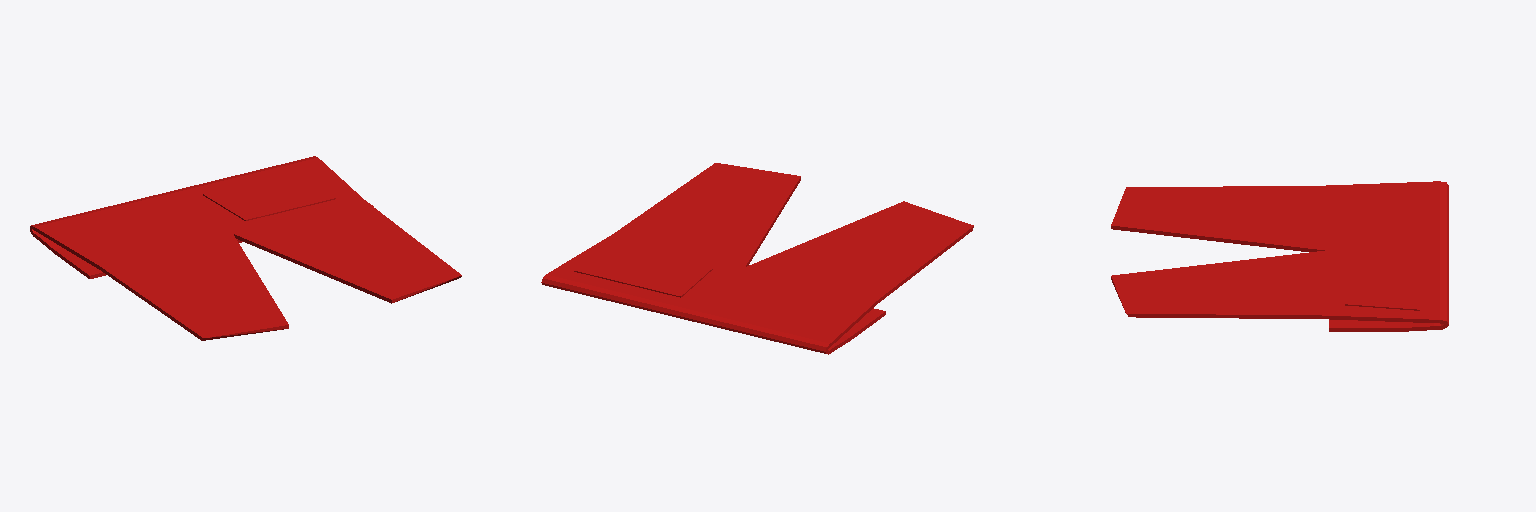
The model's file is trousers.obj.
The picture shows the model from 3 angles: view 1: azimuth 30°, elevation 25°; view 2: azimuth 150°, elevation 25°; view 3: azimuth 270°, elevation 25°; orthographic projection.
Parts seen in each view (by area): view 1: trousers; view 2: trousers; view 3: trousers.
Boxes of the visible parts, x1=… form: trousers: x1=30, y1=156, x2=461, y2=340; trousers: x1=541, y1=163, x2=973, y2=354; trousers: x1=1111, y1=181, x2=1448, y2=331.
Size of the model in its own units: 2 by 0.0894 by 2.06.